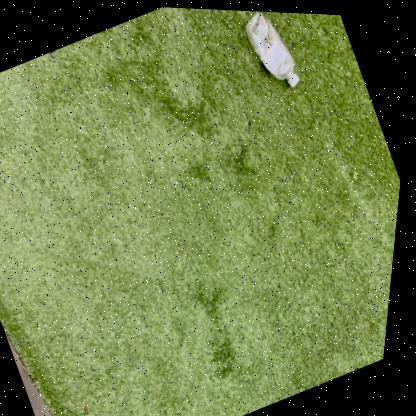Plastic: (245, 10, 300, 84)
